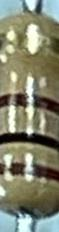Black: (0, 129, 58, 153)
Brown: (0, 91, 59, 119), (1, 159, 58, 185)
Side-Gold: (1, 36, 59, 56)
